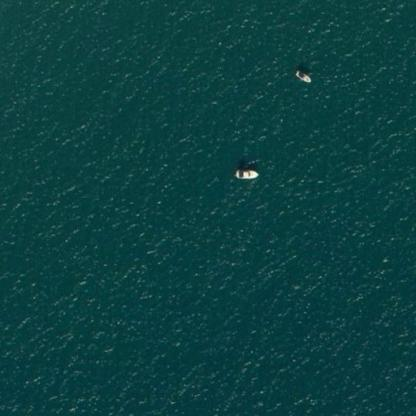ship: (227, 162, 263, 182), (290, 62, 314, 88)
